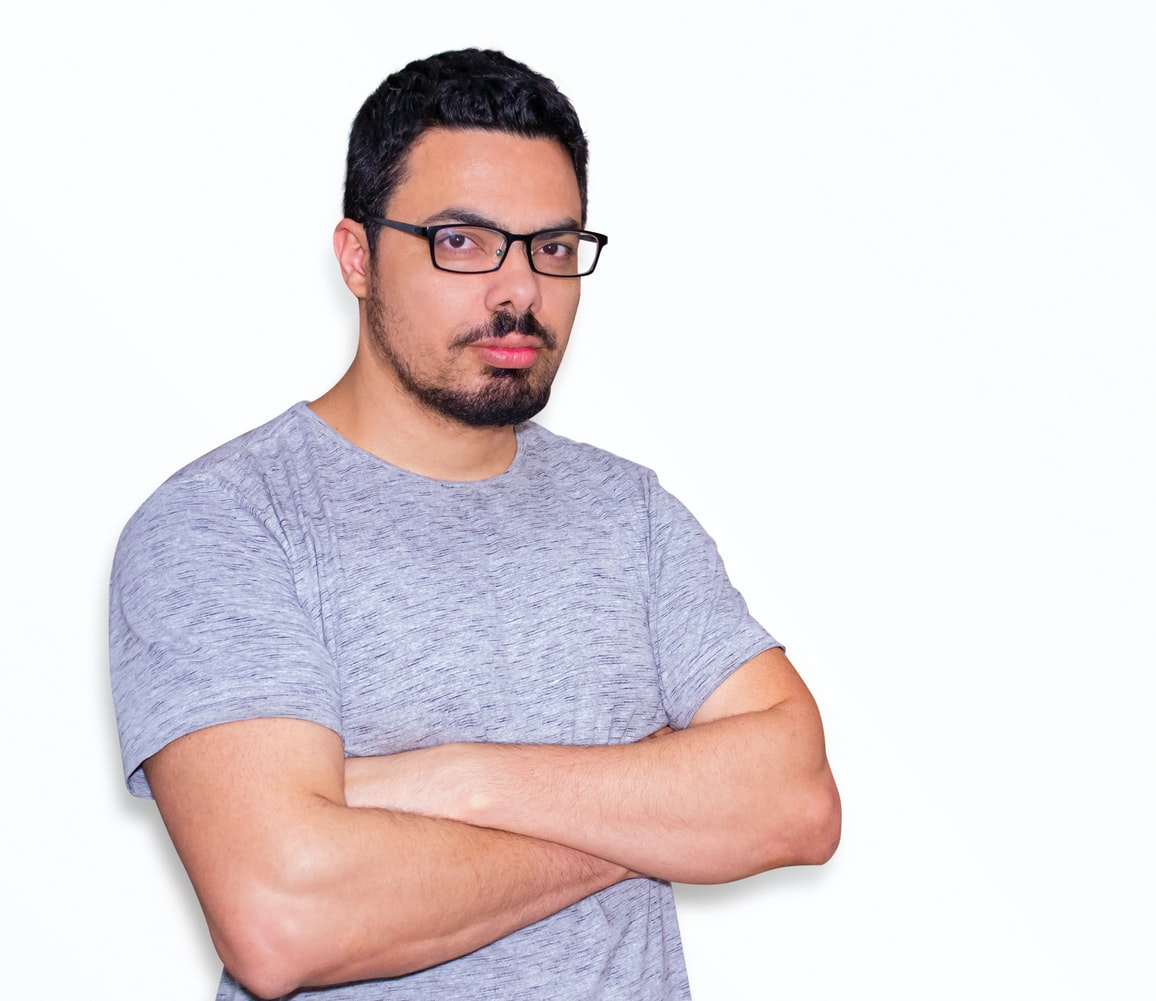beard: (408, 321, 565, 436)
glasses: (372, 207, 614, 291)
